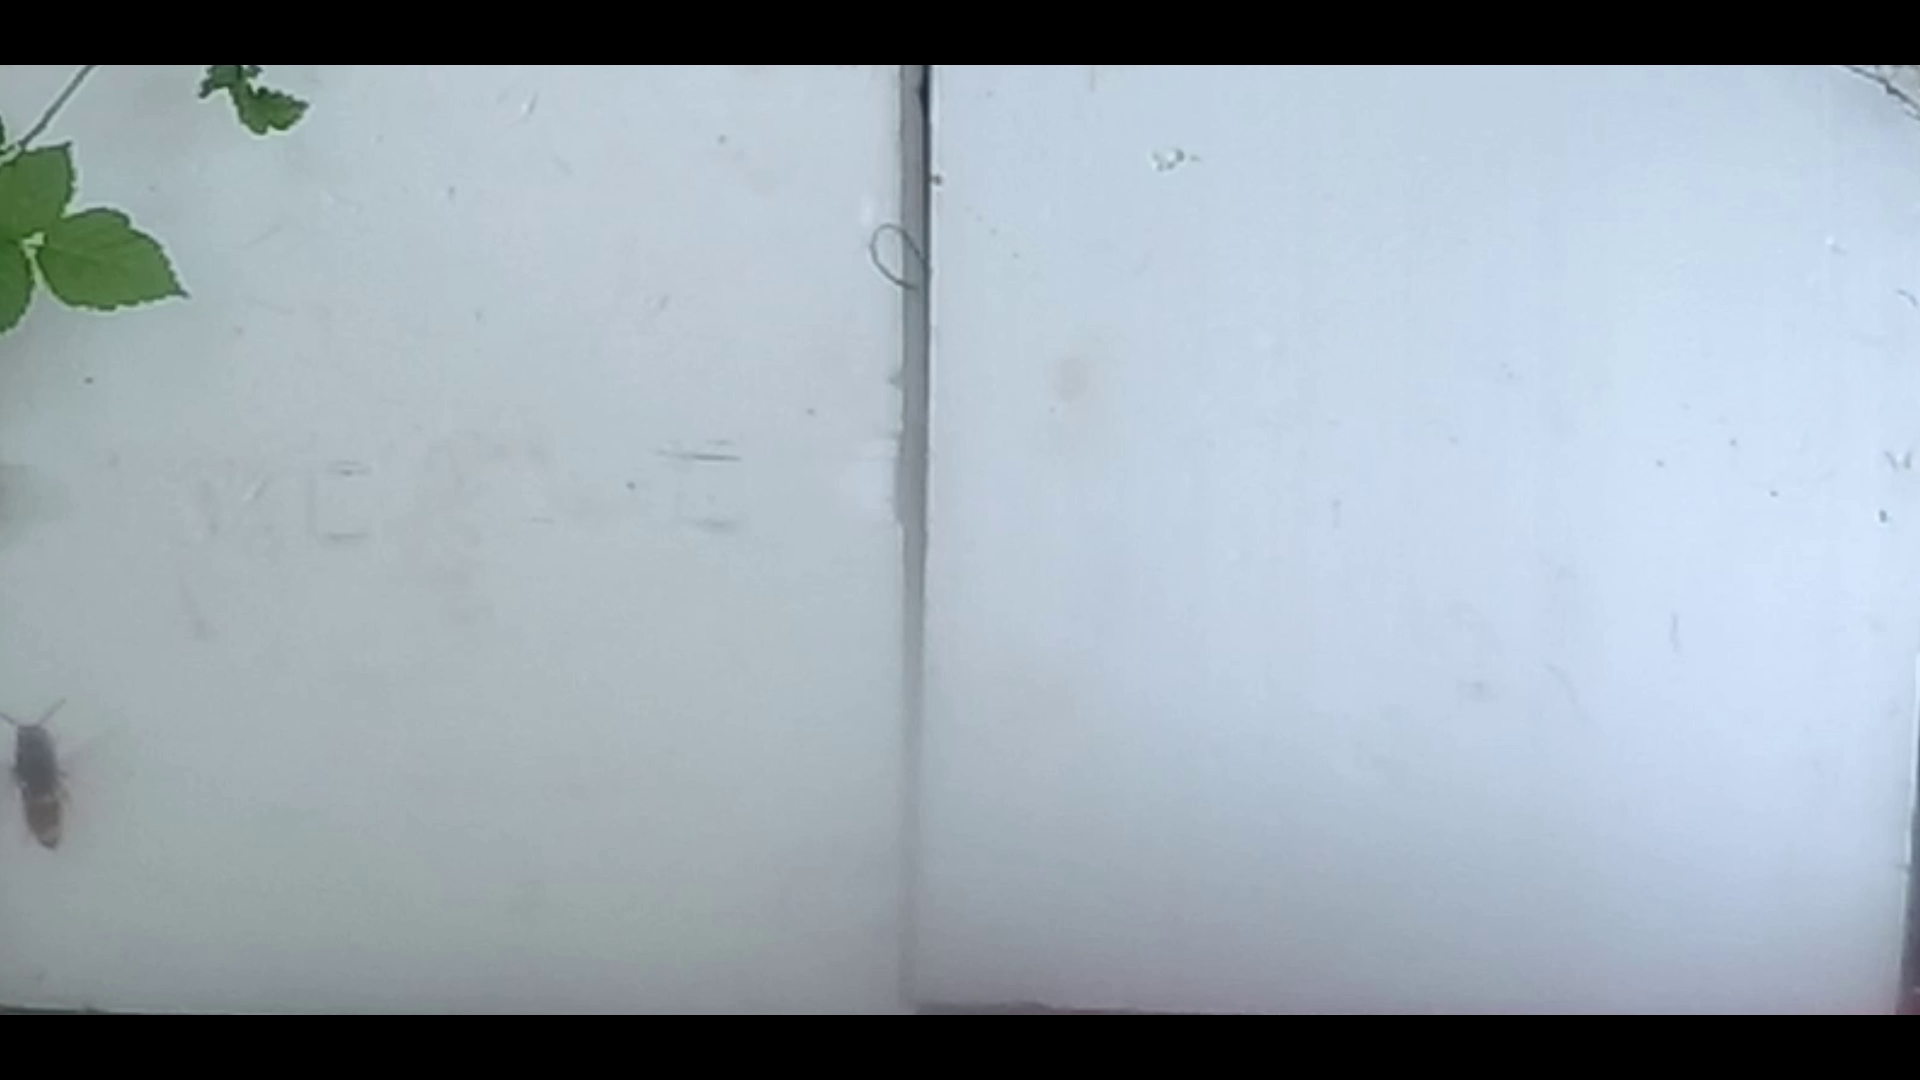Asian_hornets: (0, 682, 104, 872)
